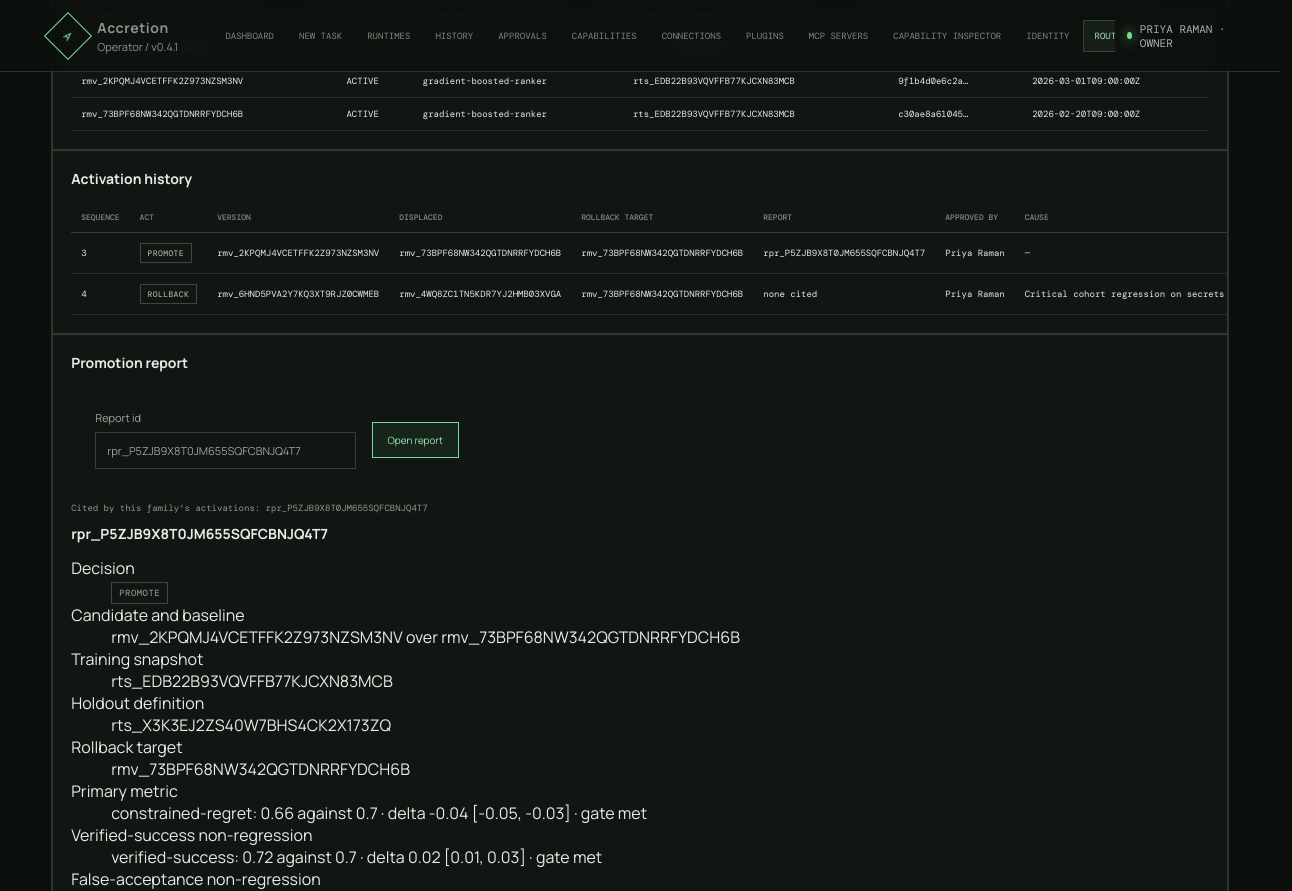
a report that decided REQUIRE_REVIEW renders its regressions and authorises no promotion
(page scrolled)
Check: the element named "Decision" is shown, box [111,582,168,604]
Check: the element named "Decision" reads "PROMOTE", box [119,587,160,599]
Replace the text in the field labelled "Report id" with "rpr_N99A206Y89ZZTCGZNFH0W4W2XD": (225, 450) [95,432,356,469]
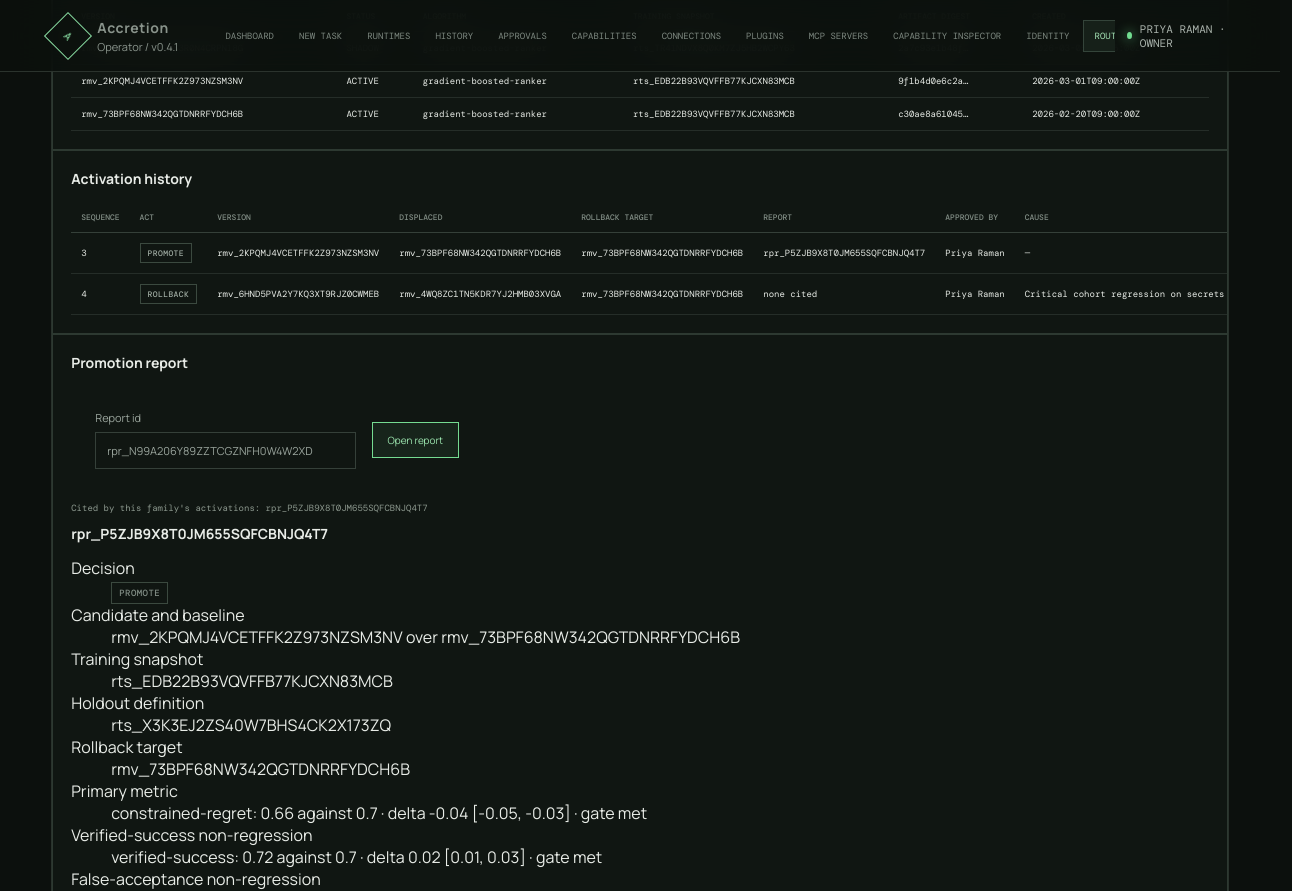
Submit the form named "Open a promotion report", box [95,410,459,469]
(page scrolled)
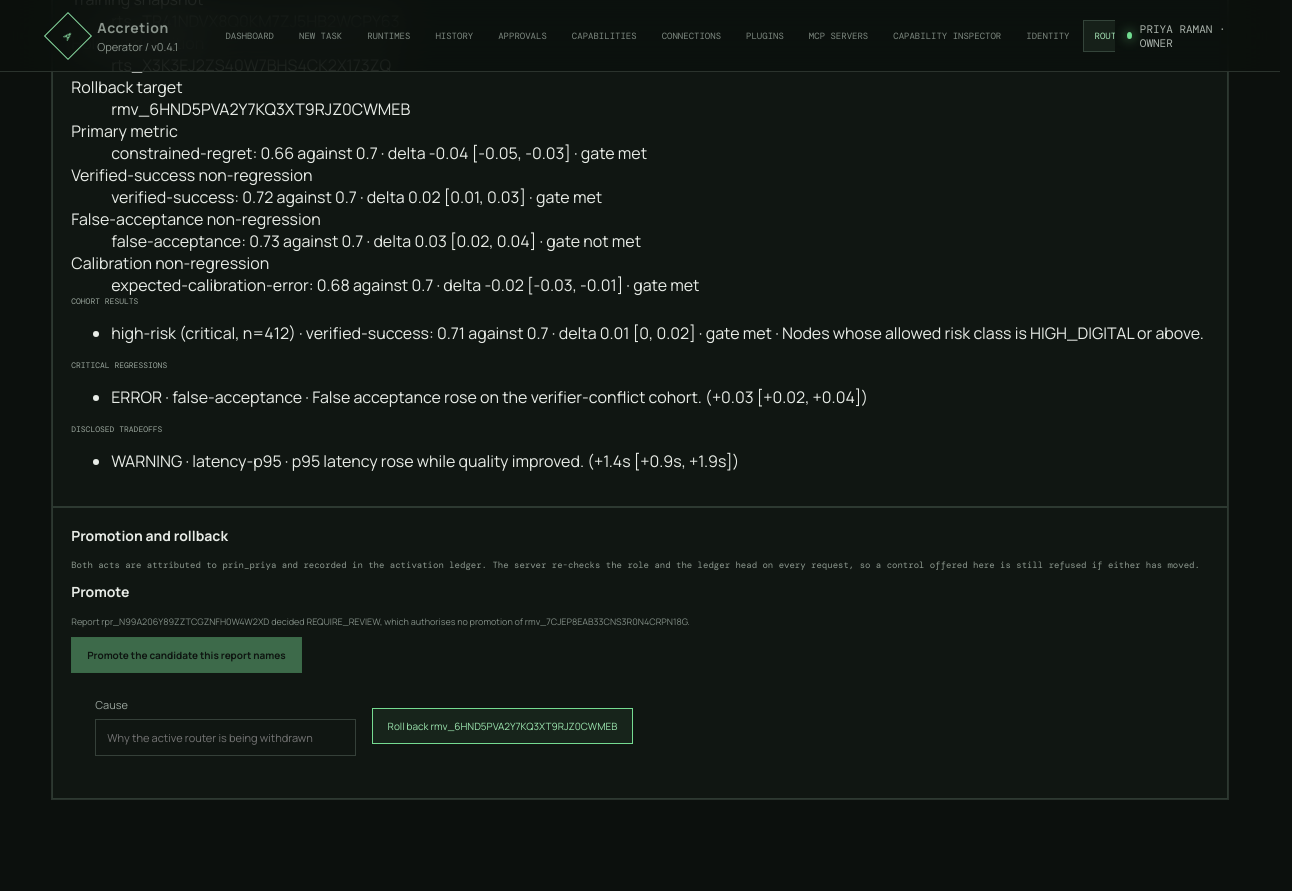
Check: the list named "Critical regressions" shows "False acceptance rose on the verifier-conflict cohort.", box [111,386,868,408]
Check: the text named "Promotion authority" shows "decided REQUIRE_REVIEW, which authorises no promotion", box [71,615,690,628]
Check: the button "Promote the candidate this report names" is disabled, box [71,637,302,673]
